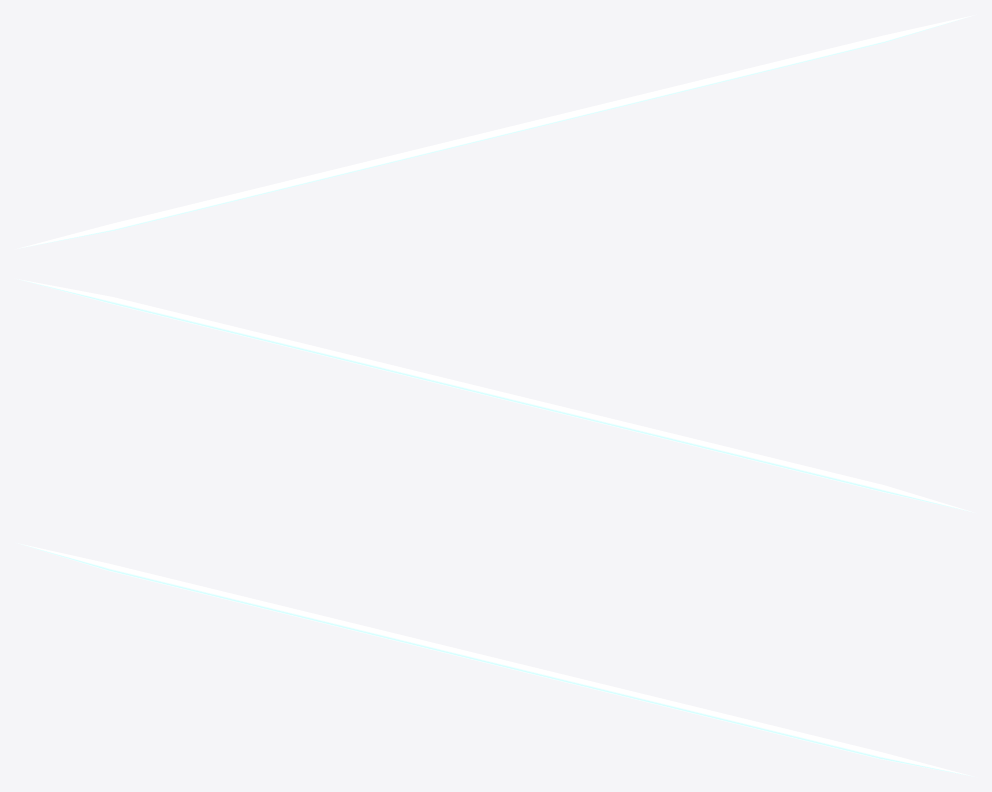
Rendered from laser.glb.
The picture shows the model from 3 angles, top to bottom: view 1: azimuth 30°, elevation 25°; view 2: azimuth 150°, elevation 25°; view 3: azimuth 330°, elevation 25°; orthographic projection.
Visible parts, largest first — view 1: Cylinder_0; view 2: Cylinder_0; view 3: Cylinder_0.
Boxes of the visible parts, <box> form: Cylinder_0: <box>17,14,976,248</box>; Cylinder_0: <box>17,279,976,513</box>; Cylinder_0: <box>15,542,974,776</box>.
Bounding box in the file's own units: 6.43 × 0.0426 × 0.0426.
